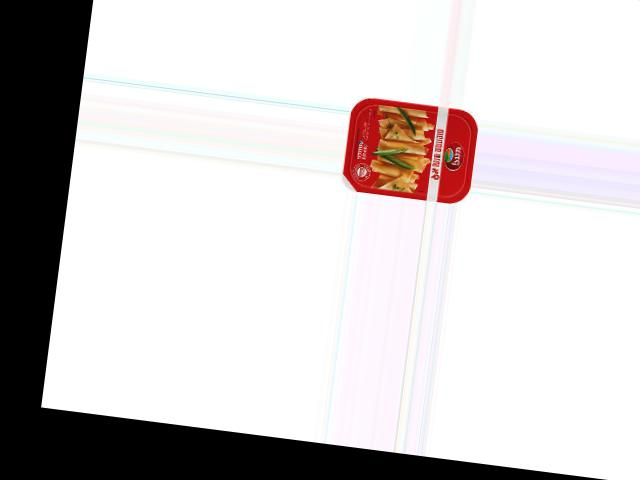cheese: (340, 94, 480, 205)
